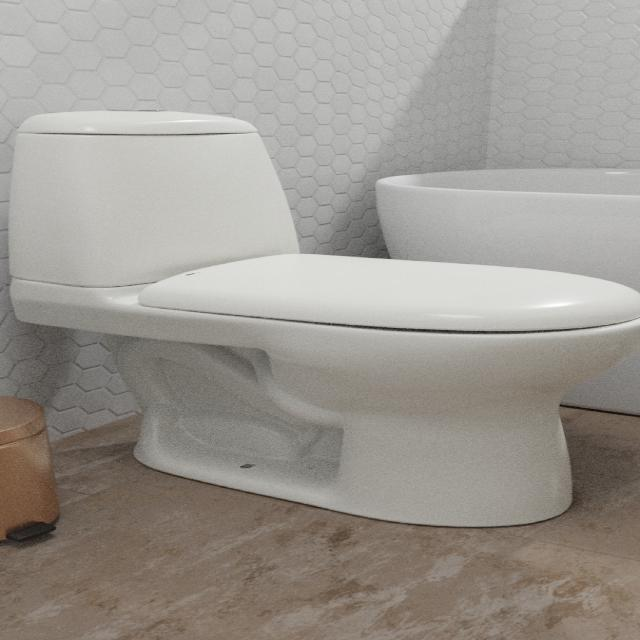toilet: (7, 109, 638, 527)
